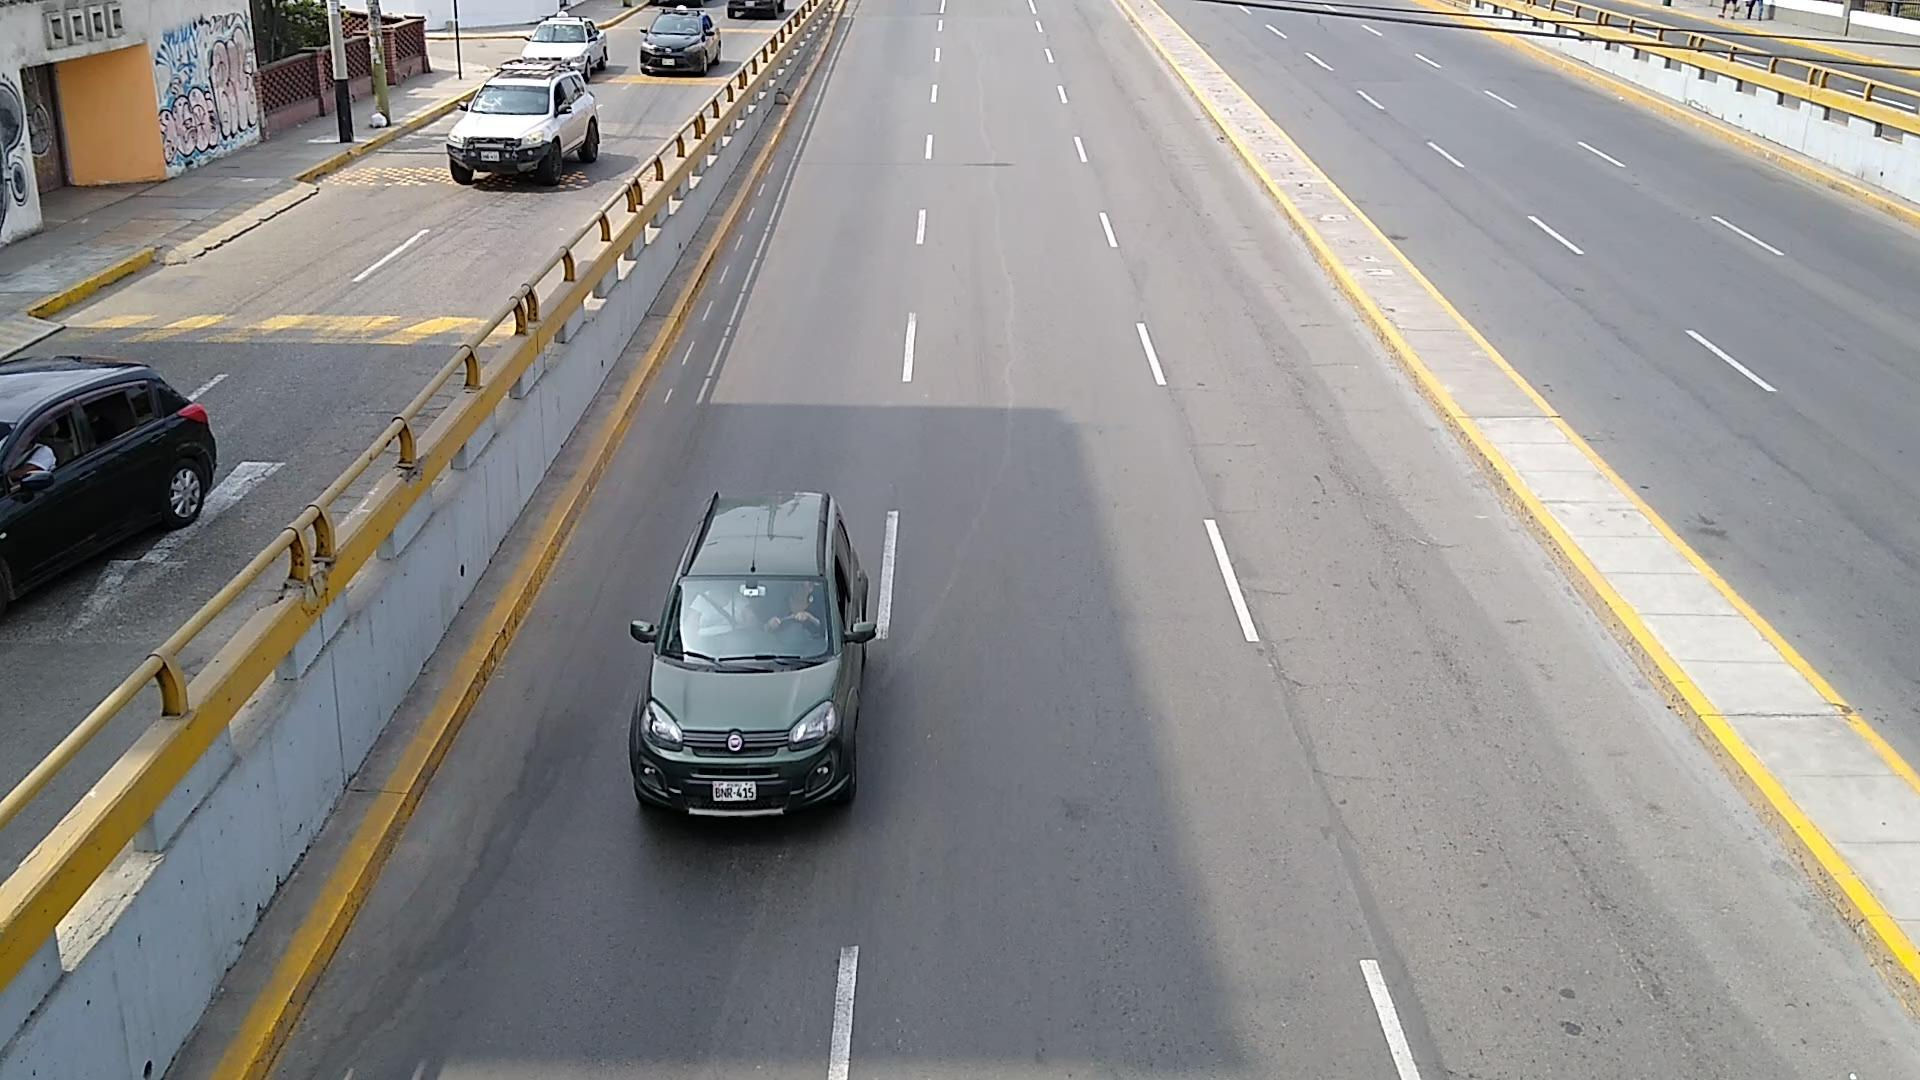car: (630, 491, 874, 818), (0, 356, 218, 609), (446, 64, 600, 184), (641, 8, 720, 75), (529, 22, 585, 45)
